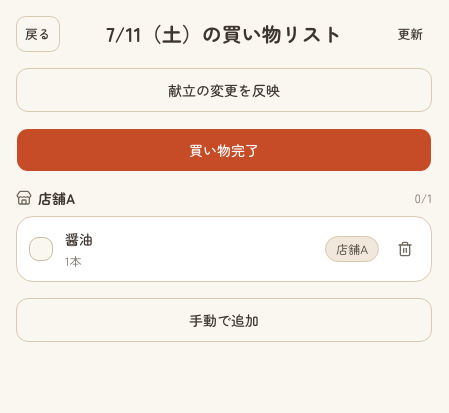
Test case: ShoppingListClient（献立の変更を反映） › SY-05: 数量が変わったとき更新件数を表示する
Click the button "献立の変更を反映" at (224, 90), box x1=16 y1=68 x2=432 y2=112
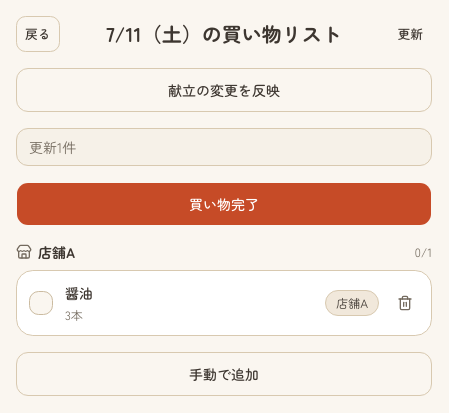
Now the text "更新1件" is shown, box x1=16 y1=128 x2=432 y2=166
